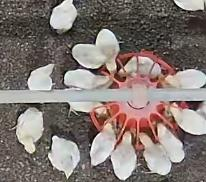chick: (12, 106, 44, 154), (138, 132, 172, 176), (47, 134, 81, 177), (61, 86, 106, 116), (111, 130, 138, 179), (90, 120, 117, 166), (156, 122, 186, 163), (170, 103, 206, 135), (117, 54, 161, 80), (96, 28, 120, 74), (71, 43, 113, 69), (62, 68, 108, 89), (164, 67, 205, 89), (25, 63, 55, 92)
rice: (89, 49, 188, 149)
